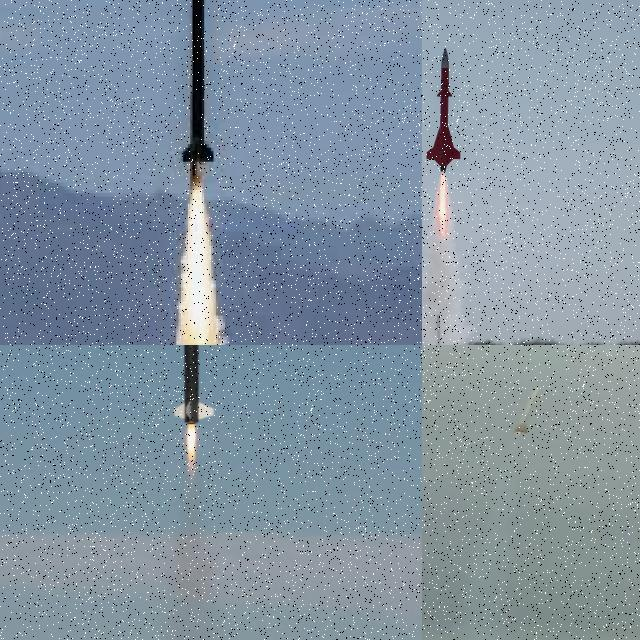Rocket: (179, 0, 215, 175), (426, 47, 461, 173), (173, 345, 215, 425), (514, 385, 540, 433)
